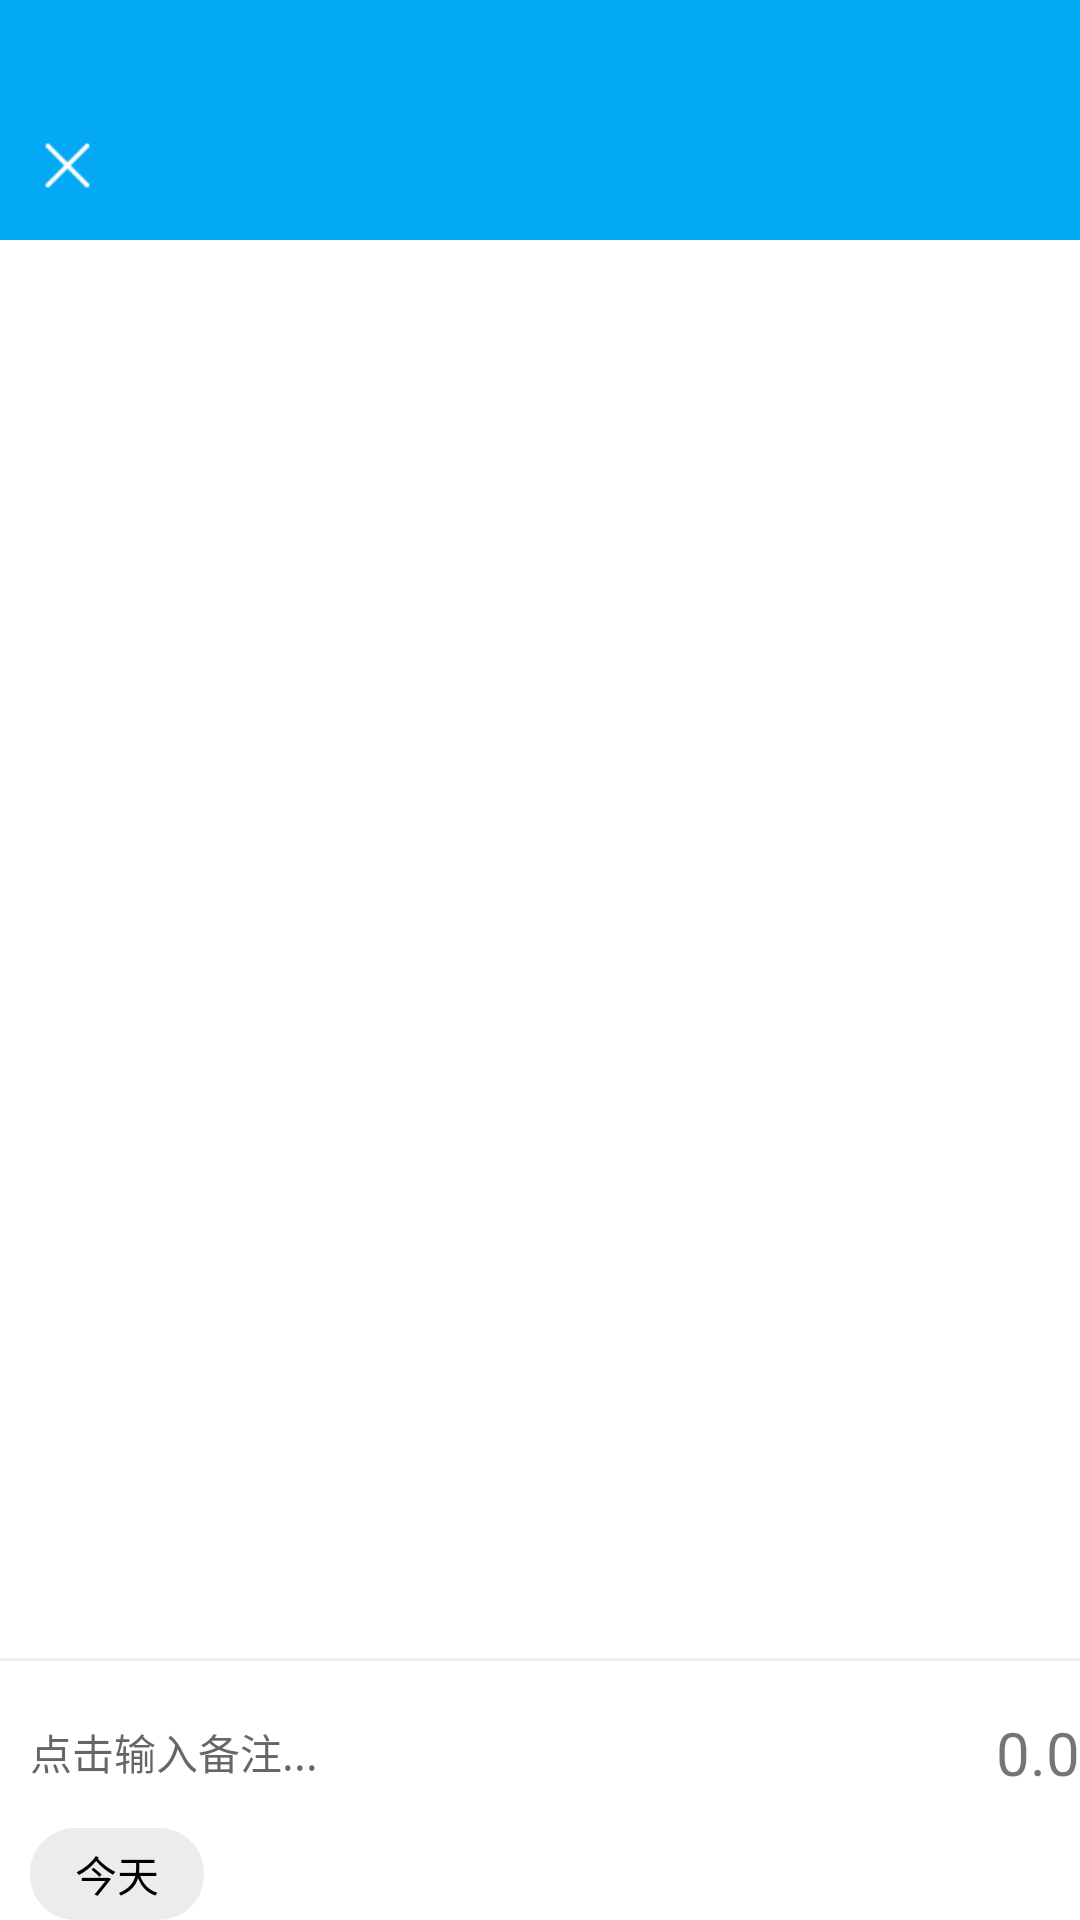

Named icons in this screenshot (1080*1920) and their centers, [x,y]:
cuo: [67,165]
